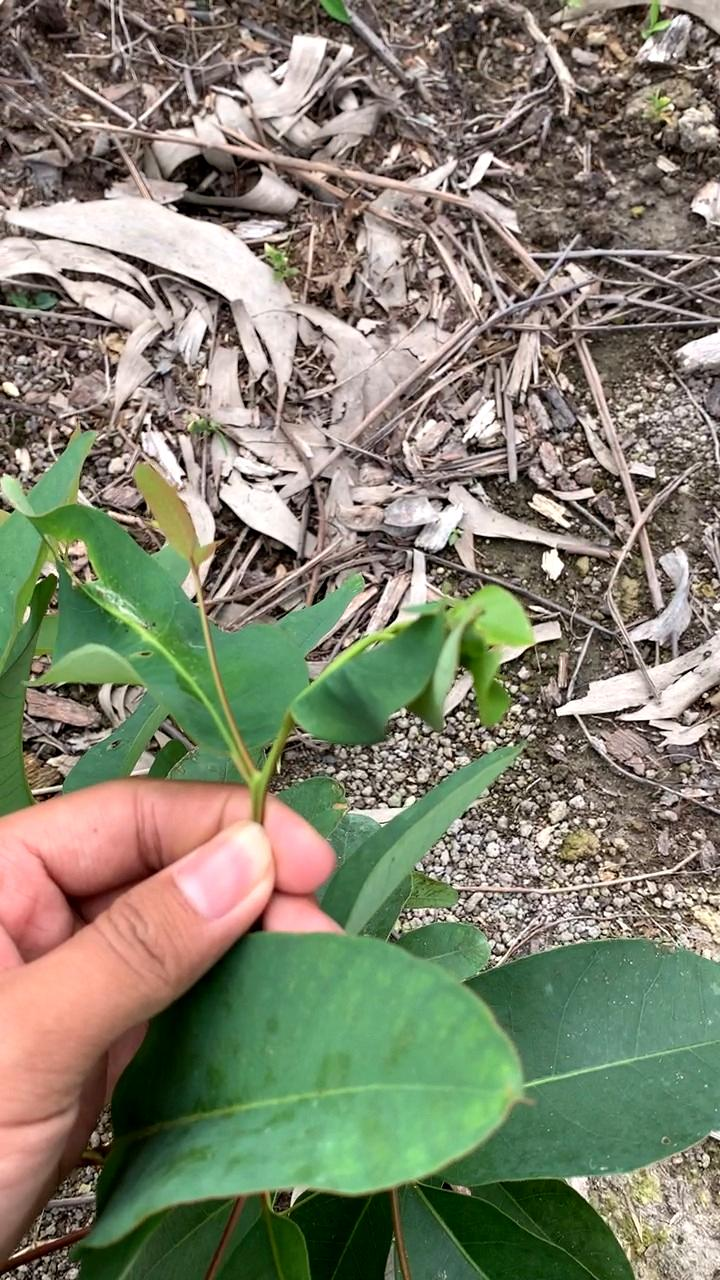Leaf Roller - Leaf: (303, 573, 527, 745)
